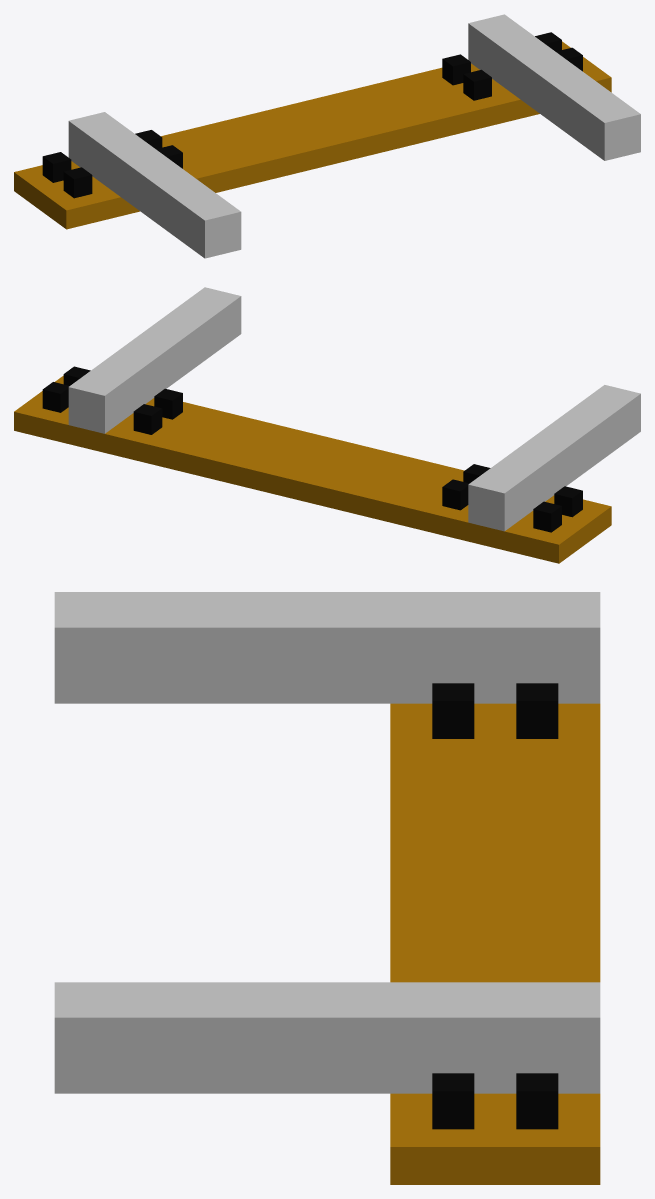
The model's file is railway unit.fbx.
The picture shows the model from 3 angles, top to bottom: view 1: azimuth 30°, elevation 25°; view 2: azimuth 150°, elevation 25°; view 3: azimuth 270°, elevation 25°; orthographic projection. The views are drawn at different scales.
Visible parts, largest first — view 1: RAIL_unit:Mesh; view 2: RAIL_unit:Mesh; view 3: RAIL_unit:Mesh.
Boxes of the visible parts, left/top/right/bottom form: RAIL_unit:Mesh: left=14, top=14, right=640, bottom=258; RAIL_unit:Mesh: left=14, top=287, right=640, bottom=563; RAIL_unit:Mesh: left=54, top=592, right=600, bottom=1184.
Bounding box in the file's own units: 3 × 0.3 × 1.3.
